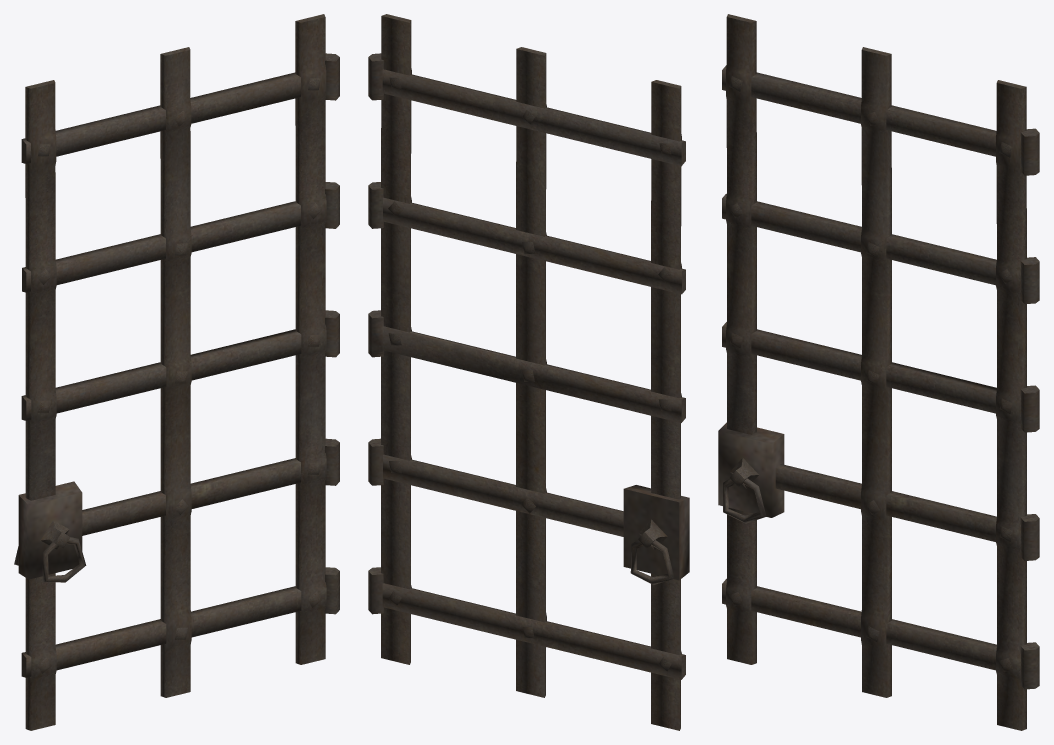
File: gate_iron_R.fbx
The picture shows the model from 3 angles, left to right: view 1: azimuth 30°, elevation 25°; view 2: azimuth 150°, elevation 25°; view 3: azimuth 330°, elevation 25°; orthographic projection.
Parts seen in each view (by area): view 1: gate_iron_R; view 2: gate_iron_R; view 3: gate_iron_R.
Part boxes in pixels (x1=…): gate_iron_R: x1=14, y1=14, x2=339, y2=730; gate_iron_R: x1=368, y1=14, x2=689, y2=730; gate_iron_R: x1=718, y1=14, x2=1039, y2=730.
Size of the model in its own units: 51.21 by 100 by 8.67.
